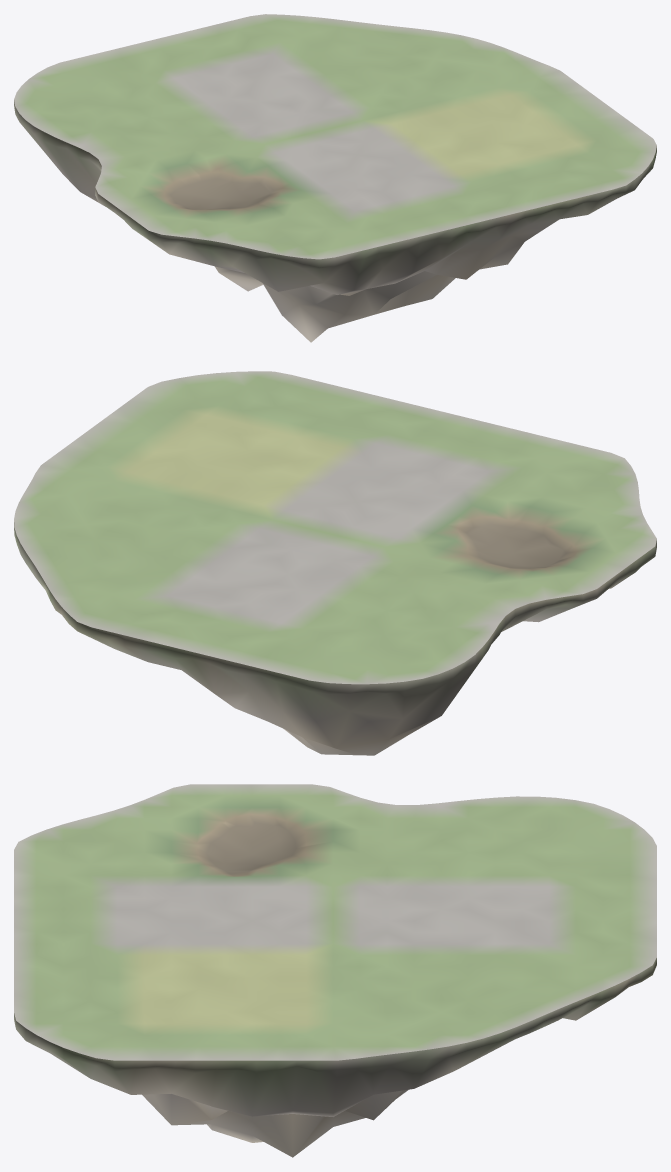
Rendered from SKY-028.rock.glb.
The picture shows the model from 3 angles, top to bottom: view 1: azimuth 30°, elevation 25°; view 2: azimuth 150°, elevation 25°; view 3: azimuth 270°, elevation 25°; orthographic projection. The views are drawn at different scales.
Visible parts, largest first — view 1: deck-col, rock; view 2: deck-col, rock; view 3: deck-col, rock.
Part boxes in pixels (x1,y1,x2,y2): deck-col: (14, 14, 656, 259); rock: (14, 100, 656, 342); deck-col: (14, 371, 656, 684); rock: (14, 522, 656, 755); deck-col: (14, 784, 656, 1060); rock: (14, 958, 656, 1157).
Size of the model in its own units: 96.97 by 37.86 by 95.34.
